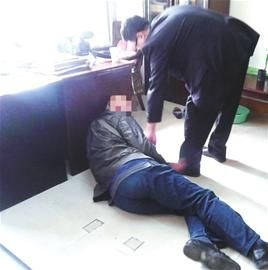falling: (79, 89, 268, 267)
